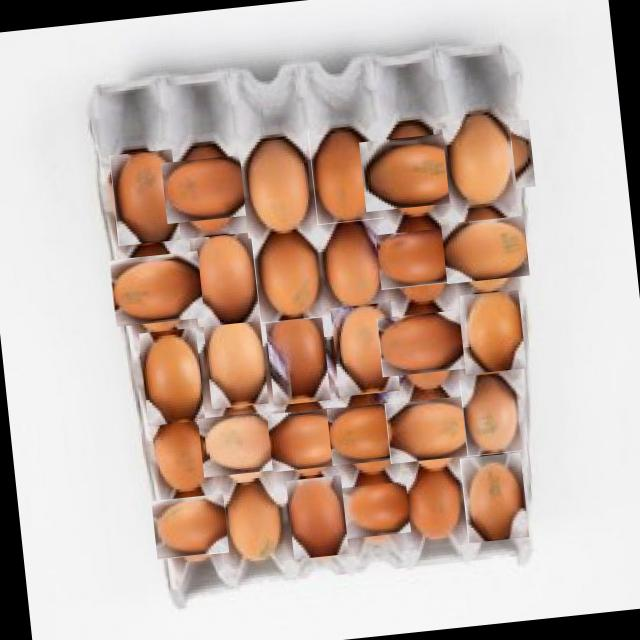eggs: (366, 123, 464, 220), (238, 130, 316, 238), (439, 113, 529, 203), (441, 108, 518, 212), (307, 123, 384, 224), (250, 222, 325, 323), (114, 246, 200, 332), (109, 148, 181, 246), (329, 300, 400, 398), (188, 232, 260, 328), (167, 147, 250, 230), (384, 301, 466, 384), (137, 327, 205, 427), (262, 306, 330, 406), (316, 216, 388, 308), (391, 388, 472, 469), (459, 452, 529, 544), (204, 404, 284, 484), (202, 316, 269, 410), (383, 218, 462, 297), (446, 210, 524, 288), (456, 289, 526, 375), (222, 476, 290, 562), (156, 488, 231, 563), (331, 396, 406, 471), (270, 402, 346, 476), (284, 475, 348, 560), (459, 374, 522, 456), (345, 476, 412, 543), (405, 468, 465, 542)
